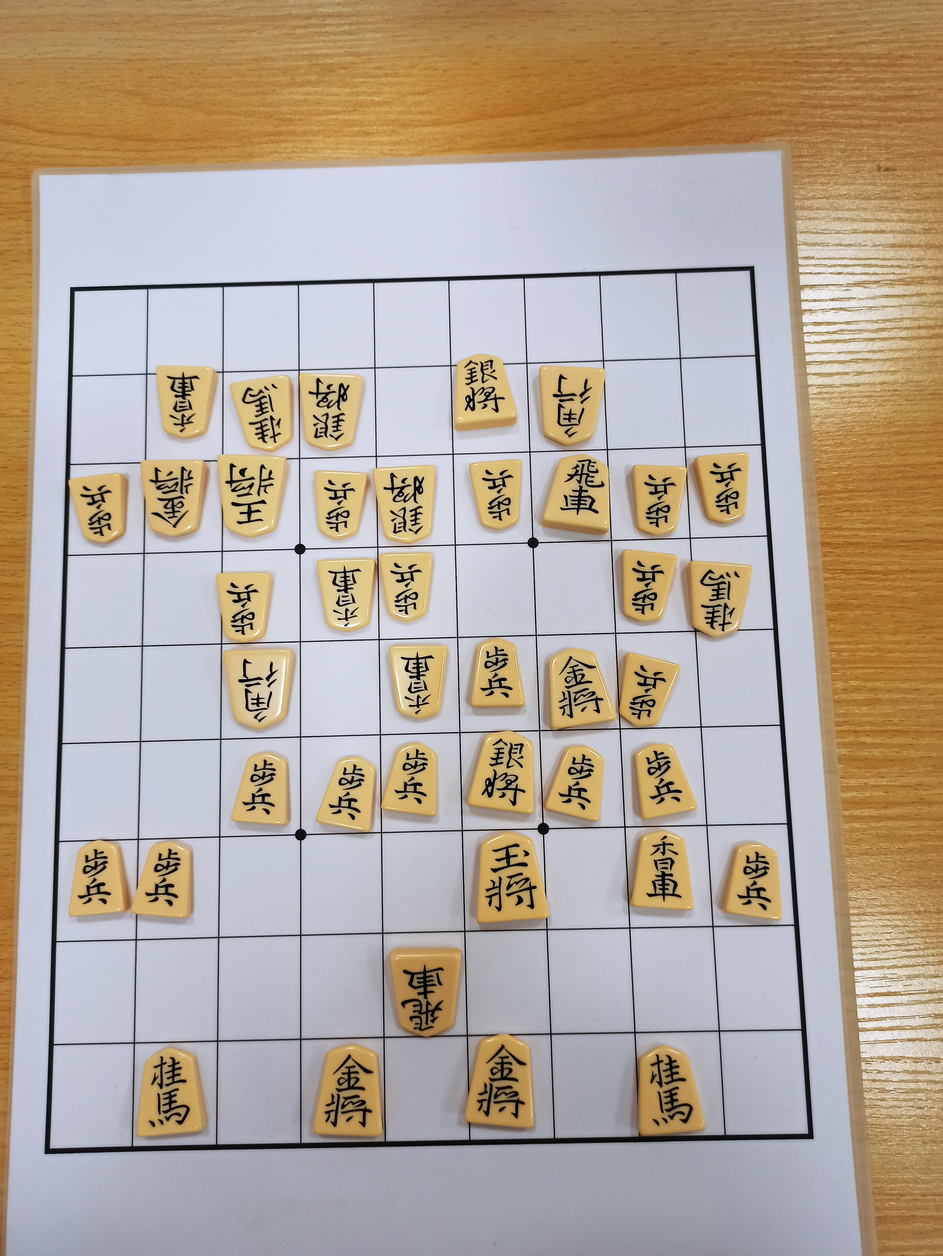board: (48, 269, 810, 1152)
